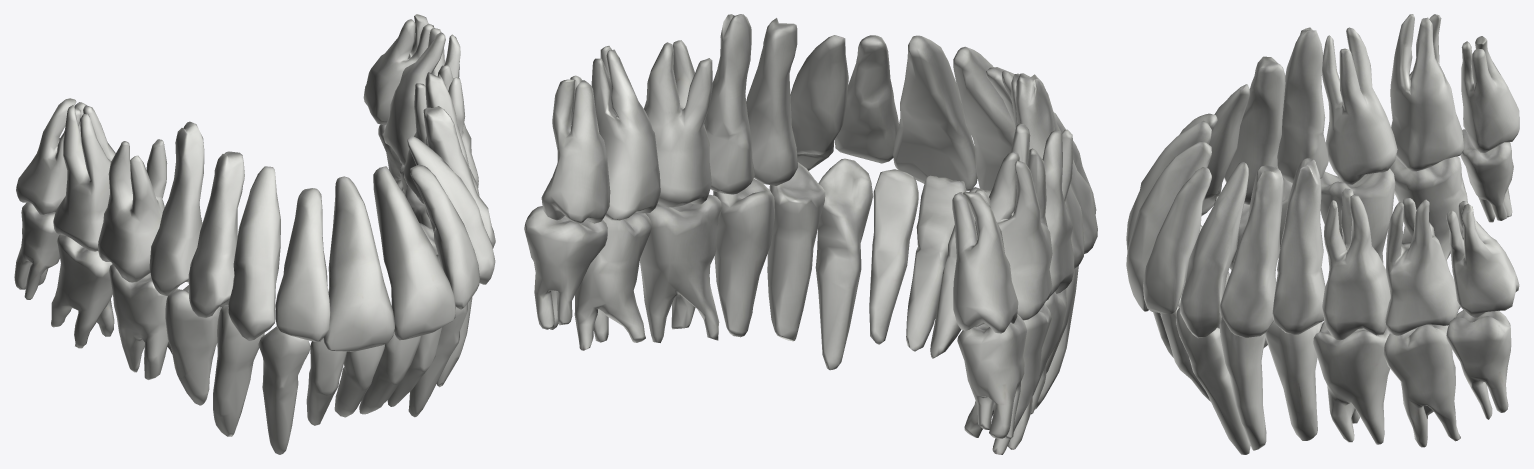
File: teeth.glb
3 renders of one model, left to right at view 1: azimuth 30°, elevation 25°; view 2: azimuth 150°, elevation 25°; view 3: azimuth 270°, elevation 25°, orthographic. The views are drawn at different scales.
Parts seen in each view (by area): view 1: Right_upper_central_incisor, Left_upper_central_incisor, Right_1st_upper_molar, Right_upper_canine, Right_upper_lateral_incisor, Right_2nd_upper_molar, Right_1st_upper_premolar, Right_2nd_upper_premolar, Right_2nd_lower_molar, Right_1st_lower_molar, Left_upper_lateral_incisor, Right_2nd_lower_premolar (+17 smaller); view 2: Left_1st_lower_molar, Left_1st_upper_molar, Left_upper_central_incisor, Left_lower_canine, Left_2nd_upper_molar, Right_2nd_upper_molar, Left_3rd_upper_molar, Right_3rd_upper_molar, Left_1st_lower_premolar, Left_2nd_lower_premolar, Left_2nd_upper_premolar, Left_2nd_lower_molar (+17 smaller); view 3: Right_2nd_upper_molar, Right_1st_upper_molar, Left_1st_upper_molar, Left_2nd_upper_molar, Left_1st_upper_premolar, Left_2nd_upper_premolar, Left_1st_lower_molar, Left_upper_canine, Left_2nd_lower_molar, Right_2nd_upper_premolar, Left_3rd_upper_molar, Left_upper_lateral_incisor (+13 smaller).
Part boxes in pixels (box(x1,y1,x2,y2)): Right_upper_central_incisor: box(323, 176, 394, 351); Left_upper_central_incisor: box(373, 166, 455, 340); Right_1st_upper_molar: box(98, 139, 167, 282); Right_upper_canine: box(228, 166, 280, 340); Right_upper_lateral_incisor: box(275, 188, 330, 341); Right_2nd_upper_molar: box(53, 105, 115, 251); Right_1st_upper_premolar: box(188, 151, 244, 317); Right_2nd_upper_premolar: box(149, 121, 204, 295); Right_2nd_lower_molar: box(51, 234, 114, 348); Right_1st_lower_molar: box(109, 264, 177, 379); Left_upper_lateral_incisor: box(410, 164, 479, 309); Right_2nd_lower_premolar: box(165, 285, 221, 405); Left_1st_lower_molar: box(640, 194, 722, 342); Left_1st_upper_molar: box(644, 40, 712, 207); Left_upper_central_incisor: box(893, 35, 977, 191); Left_lower_canine: box(815, 158, 873, 370); Left_2nd_upper_molar: box(591, 46, 660, 220); Right_2nd_upper_molar: box(975, 148, 1052, 320); Left_3rd_upper_molar: box(541, 75, 610, 223); Right_3rd_upper_molar: box(952, 189, 1018, 333); Left_1st_lower_premolar: box(767, 162, 825, 341); Left_2nd_lower_premolar: box(713, 178, 774, 337); Left_2nd_upper_premolar: box(704, 14, 755, 194); Left_2nd_lower_molar: box(574, 211, 652, 350); Right_2nd_upper_molar: box(1390, 14, 1464, 171); Right_1st_upper_molar: box(1322, 27, 1397, 184); Left_1st_upper_molar: box(1322, 188, 1390, 340); Left_2nd_upper_molar: box(1385, 198, 1460, 335); Left_1st_upper_premolar: box(1219, 165, 1283, 337); Left_2nd_upper_premolar: box(1272, 158, 1325, 334); Left_1st_lower_molar: box(1313, 321, 1389, 444); Left_upper_canine: box(1180, 161, 1248, 338); Left_2nd_lower_molar: box(1383, 324, 1460, 447); Right_2nd_upper_premolar: box(1277, 27, 1328, 183); Left_3rd_upper_molar: box(1446, 201, 1519, 317); Left_upper_lateral_incisor: box(1143, 167, 1211, 313).
Size of the model in its own units: 0.0656 by 0.0486 by 0.0526.
Materials: 32 (32 with a texture image).
